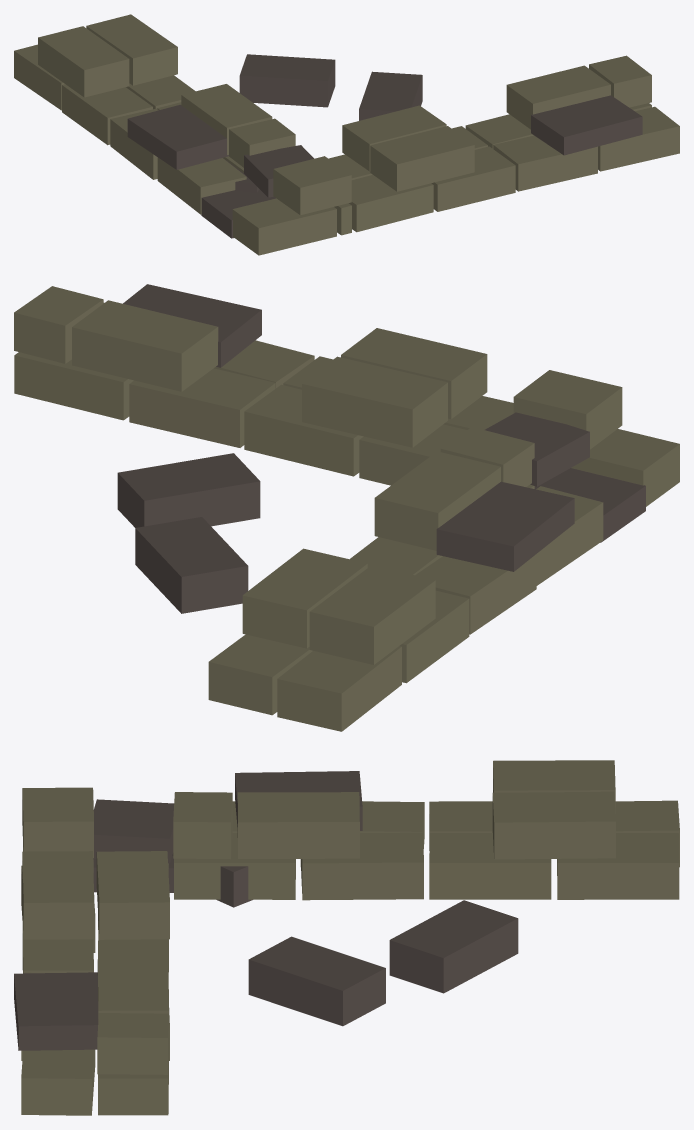
The model's file is SM_PretilEsquina_v3_Tablon_e2_MuyDanado_LOD0.fbx.
3 views of the same model, one above another, from view 1: azimuth 30°, elevation 25°; view 2: azimuth 150°, elevation 25°; view 3: azimuth 270°, elevation 25° (orthographic). The views are drawn at different scales.
Parts seen in each view (by area): view 1: SM_pretil_azotea_v34_LOD0; view 2: SM_pretil_azotea_v34_LOD0; view 3: SM_pretil_azotea_v34_LOD0.
Part boxes in pixels (box(x1,y1,x2,y2)): SM_pretil_azotea_v34_LOD0: box(14, 14, 679, 255); SM_pretil_azotea_v34_LOD0: box(14, 284, 679, 731); SM_pretil_azotea_v34_LOD0: box(14, 760, 679, 1115).
Size of the model in its own units: 4.43 by 0.585 by 4.43.
